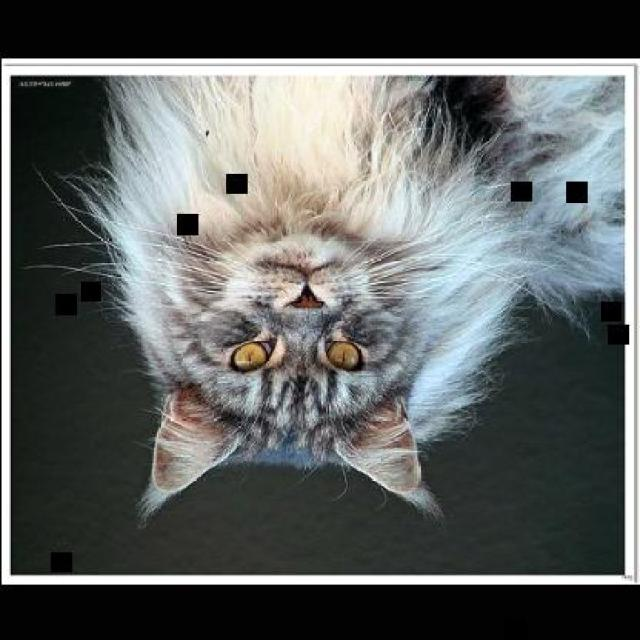unauthorized: (22, 72, 623, 528)
